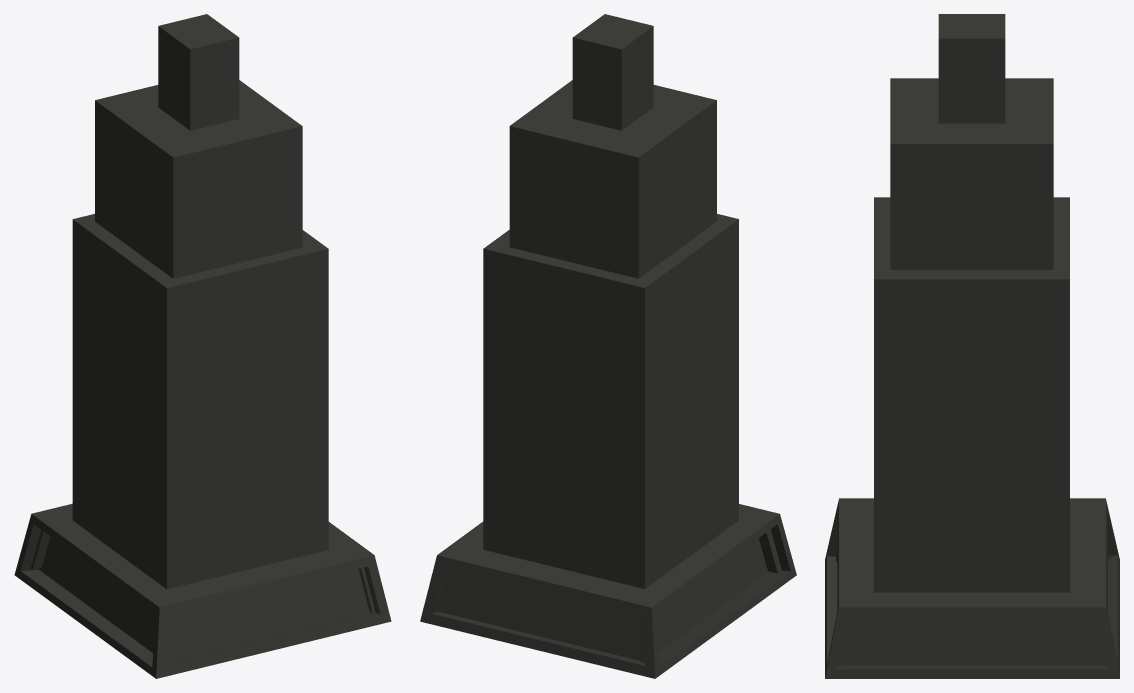
The model's file is Container3.fbx.
The picture shows the model from 3 angles, left to right: view 1: azimuth 30°, elevation 25°; view 2: azimuth 150°, elevation 25°; view 3: azimuth 270°, elevation 25°; orthographic projection. The views are drawn at different scales.
Parts seen in each view (by area): view 1: Container3; view 2: Container3; view 3: Container3.
Boxes of the visible parts, bbox=[...] form: Container3: bbox=[14, 14, 391, 678]; Container3: bbox=[420, 14, 796, 678]; Container3: bbox=[825, 14, 1119, 678].
Size of the model in its own units: 51.16 by 118 by 53.39.
